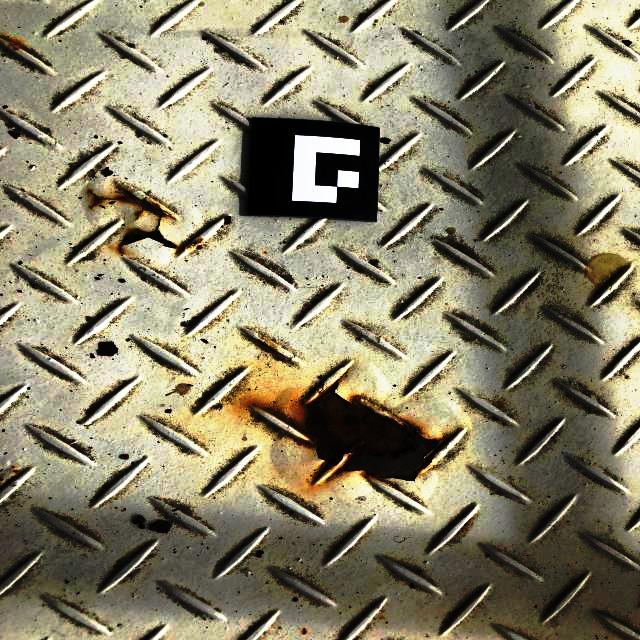Corrosion: (305, 363, 439, 481), (86, 179, 178, 248), (255, 336, 284, 356), (9, 37, 21, 53), (189, 238, 199, 247)
